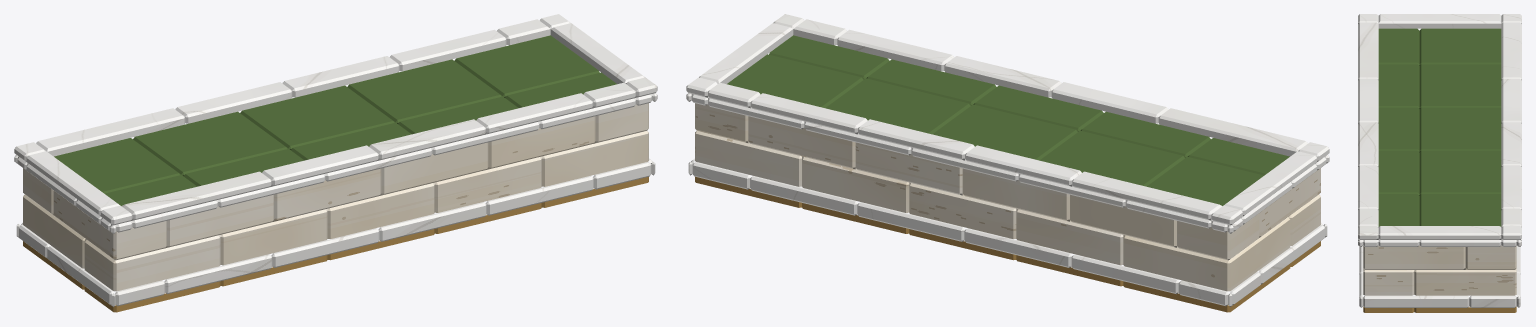
3 renders of one model, left to right at view 1: azimuth 30°, elevation 25°; view 2: azimuth 150°, elevation 25°; view 3: azimuth 270°, elevation 25°, orthographic. The views are drawn at different scales.
Parts seen in each view (by area): view 1: Mesh_planter_long; view 2: Mesh_planter_long; view 3: Mesh_planter_long.
Boxes of the visible parts, x1,y1,x2,y2 form: Mesh_planter_long: (14,14,657,312); Mesh_planter_long: (686,14,1329,312); Mesh_planter_long: (1358,14,1521,312).
Size of the model in its own units: 4.08 by 0.7 by 1.28.
Materials: 1 (1 with a texture image).
